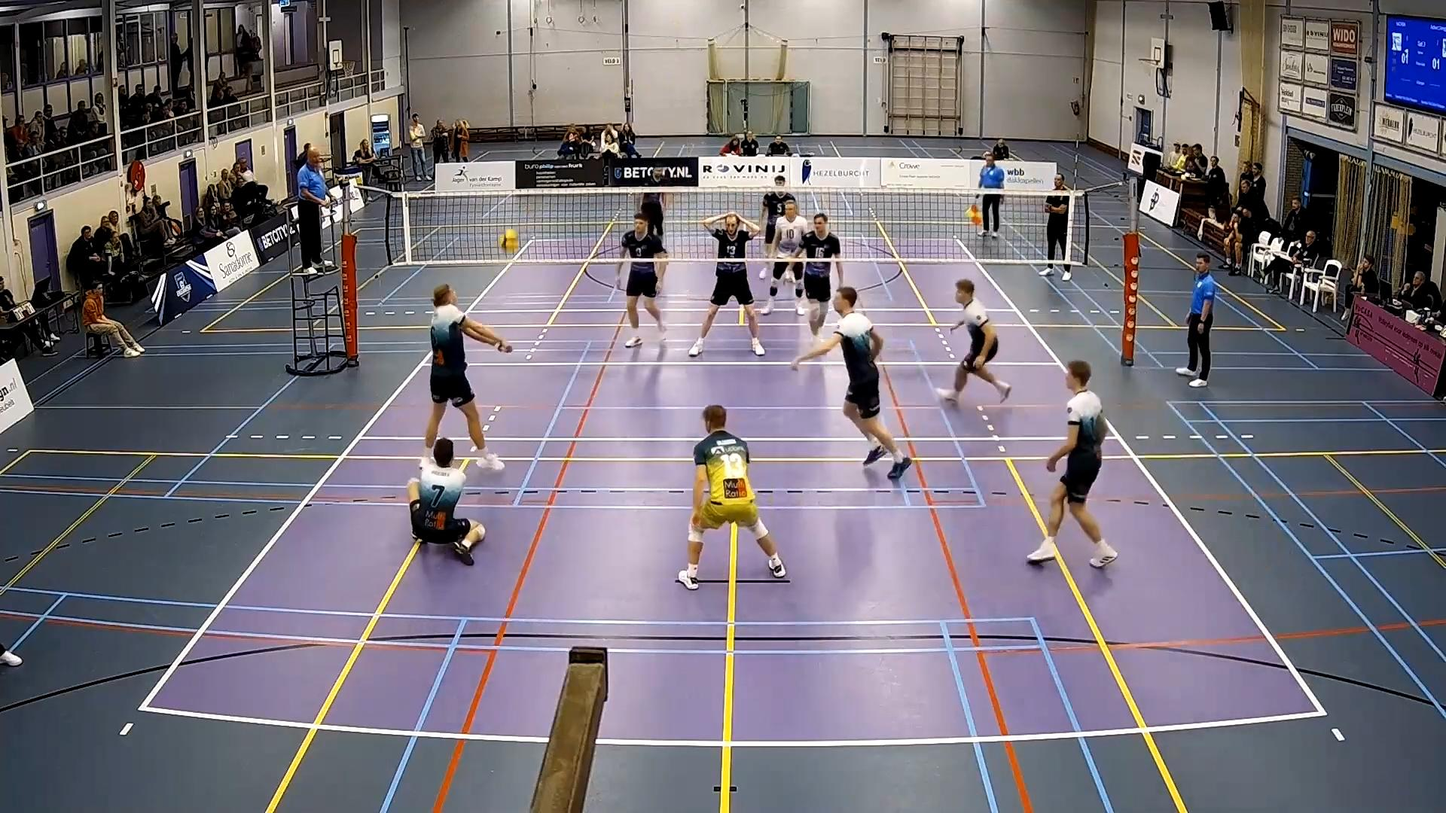ricezione: (425, 283, 512, 477)
